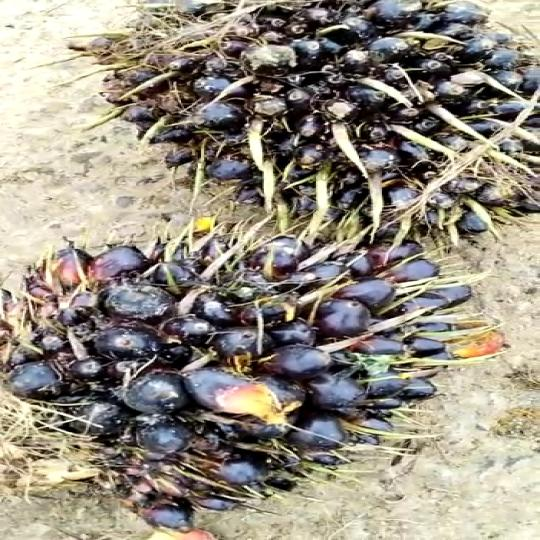mentah: (0, 240, 465, 526), (69, 0, 540, 244)
